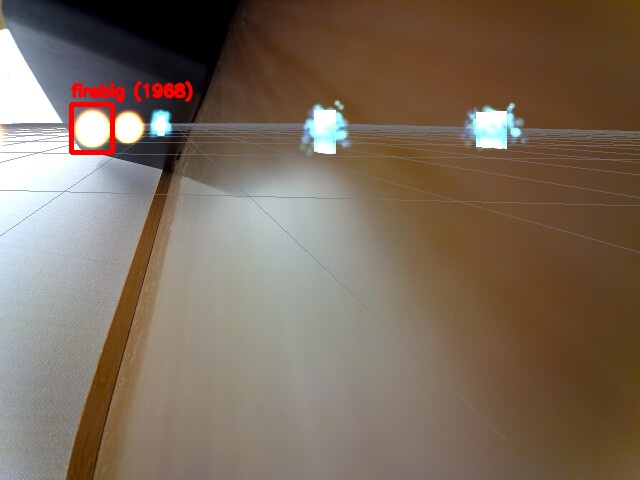firebig: (71, 104, 112, 152)
